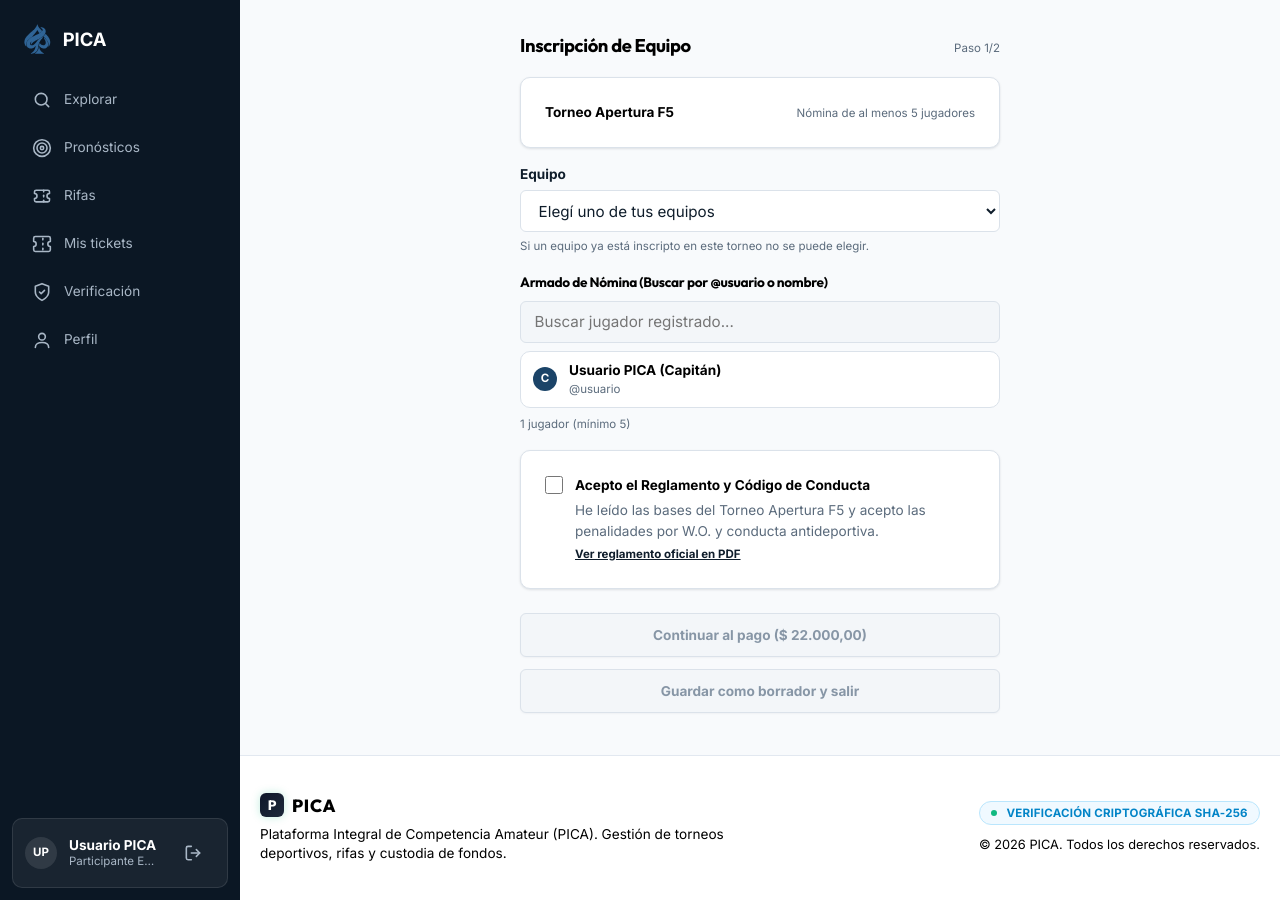
paso 1: equipo y nómina (alta) › avisa si la búsqueda no encuentra a nadie
The width and height of the screenshot is (1280, 900).
Type "zzzz" into the search field labelled "Buscar jugador registrado..." at (760, 322), box x1=520 y1=301 x2=1000 y2=343
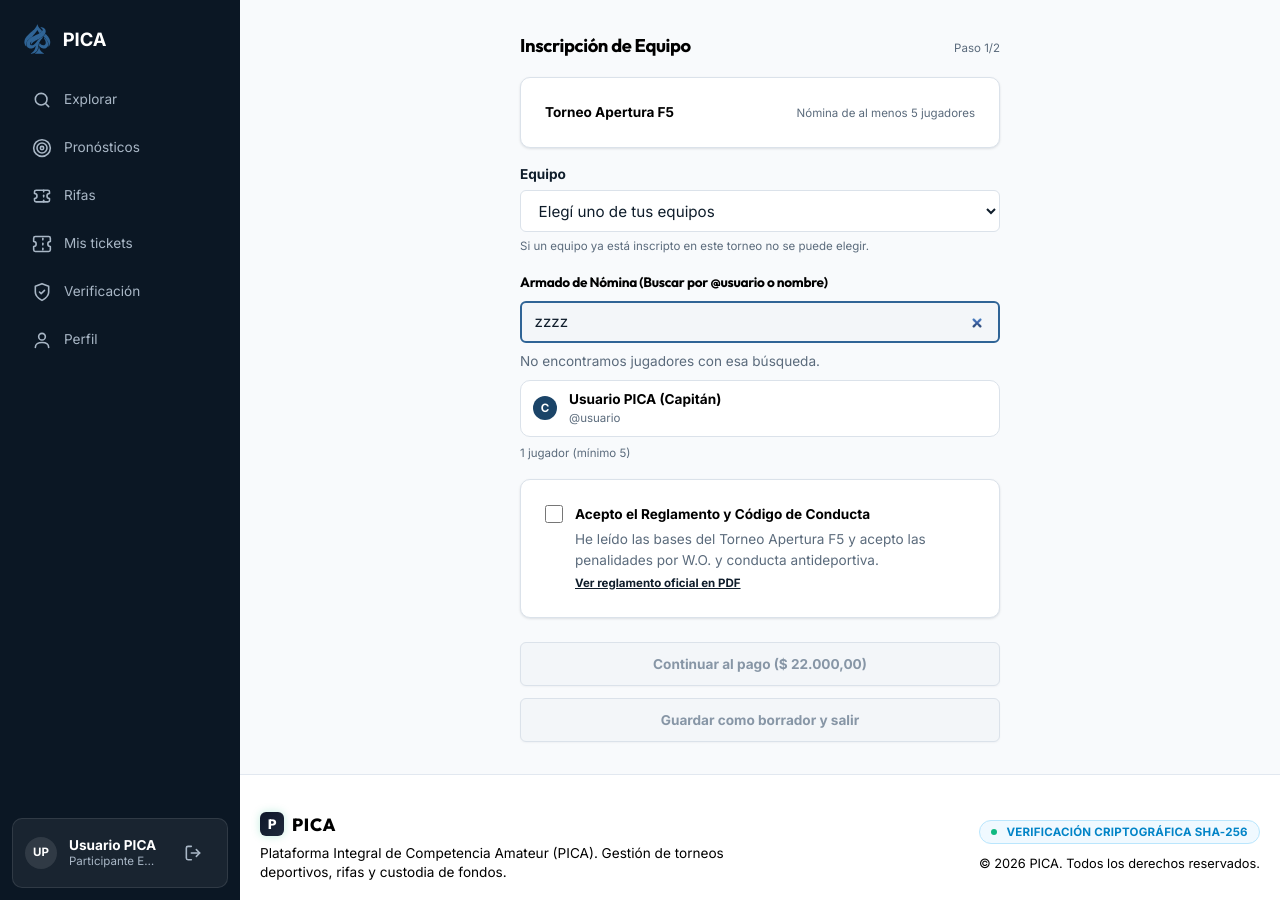
Now the text "No encontramos jugadores con esa búsqueda." is shown, box x1=520 y1=353 x2=820 y2=369
